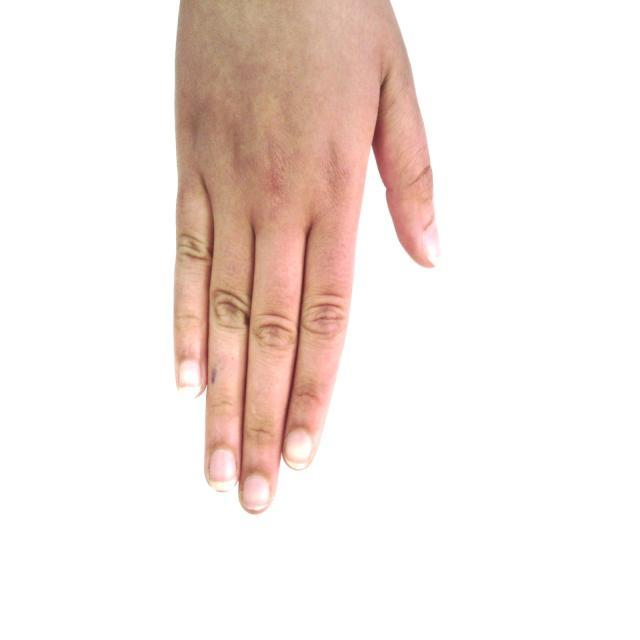Fingernail: (210, 450, 236, 491), (286, 430, 312, 470), (242, 474, 270, 511), (179, 361, 202, 392), (424, 225, 441, 262)
